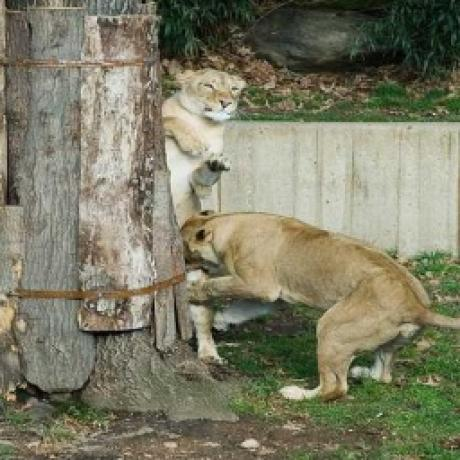Lion: (181, 212, 460, 407), (159, 58, 243, 210)
